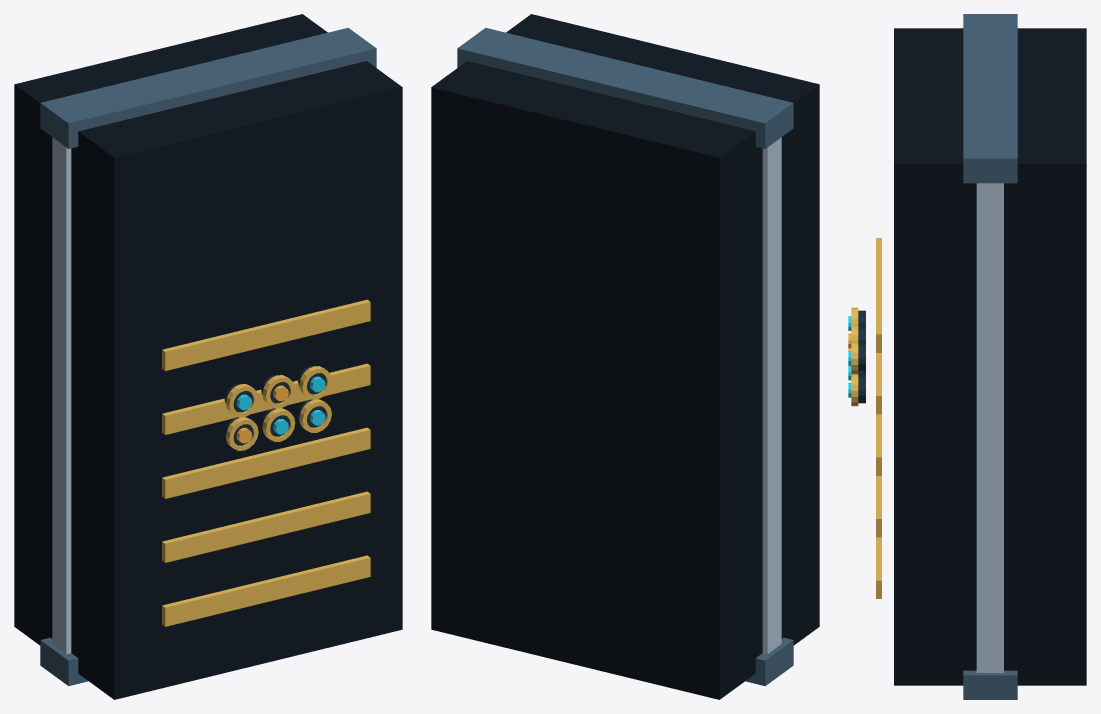
The model's file is 40_L81_SafeMissionCommandGate.fbx.
3 renders of one model, left to right at view 1: azimuth 30°, elevation 25°; view 2: azimuth 150°, elevation 25°; view 3: azimuth 270°, elevation 25°, orthographic. The views are drawn at different scales.
Parts seen in each view (by area): view 1: SafeMissionCommandGate; view 2: SafeMissionCommandGate; view 3: SafeMissionCommandGate.
Part boxes in pixels (x1,y1,x2,y2): SafeMissionCommandGate: (14,14,402,699); SafeMissionCommandGate: (431,14,819,699); SafeMissionCommandGate: (848,14,1086,699).
Size of the model in its own units: 126 by 220 by 87.85.
